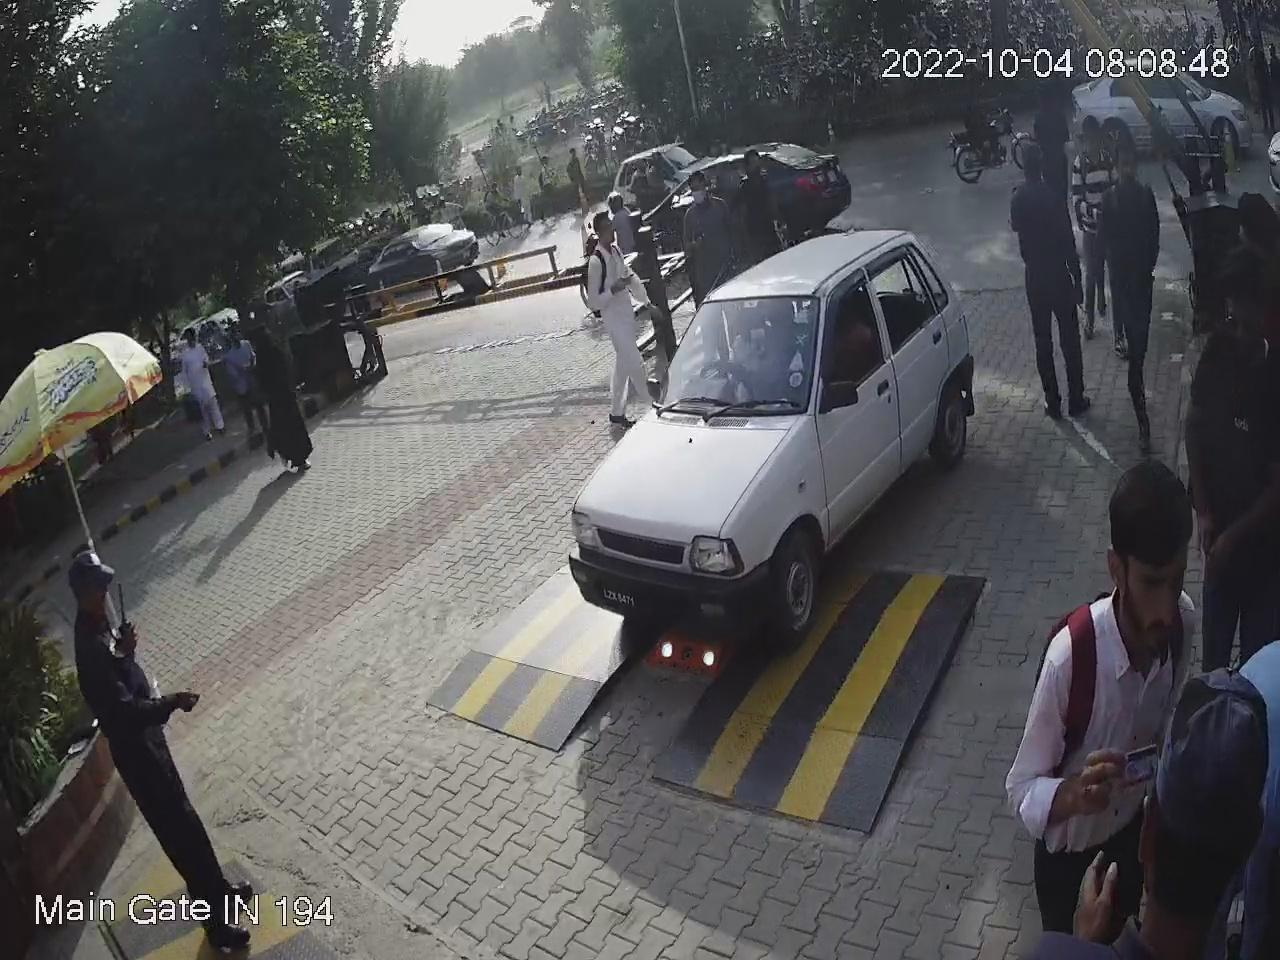windshield: (650, 290, 825, 443)
